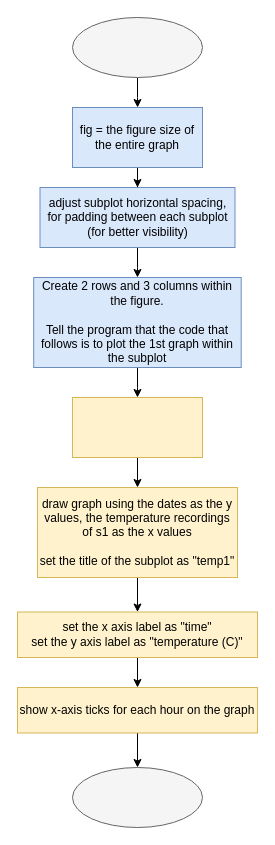
The diagram is 275 pixels wide and 845 high, and some of its shapes have lost their labels. The shapes that lost their labels are listed below. From the top down, each one's centre as x and y in pixels, then its label:
At (137,47): "start".
At (137,427): "set the max y value to be shown on the graph to 60".
At (137,797): "end".
